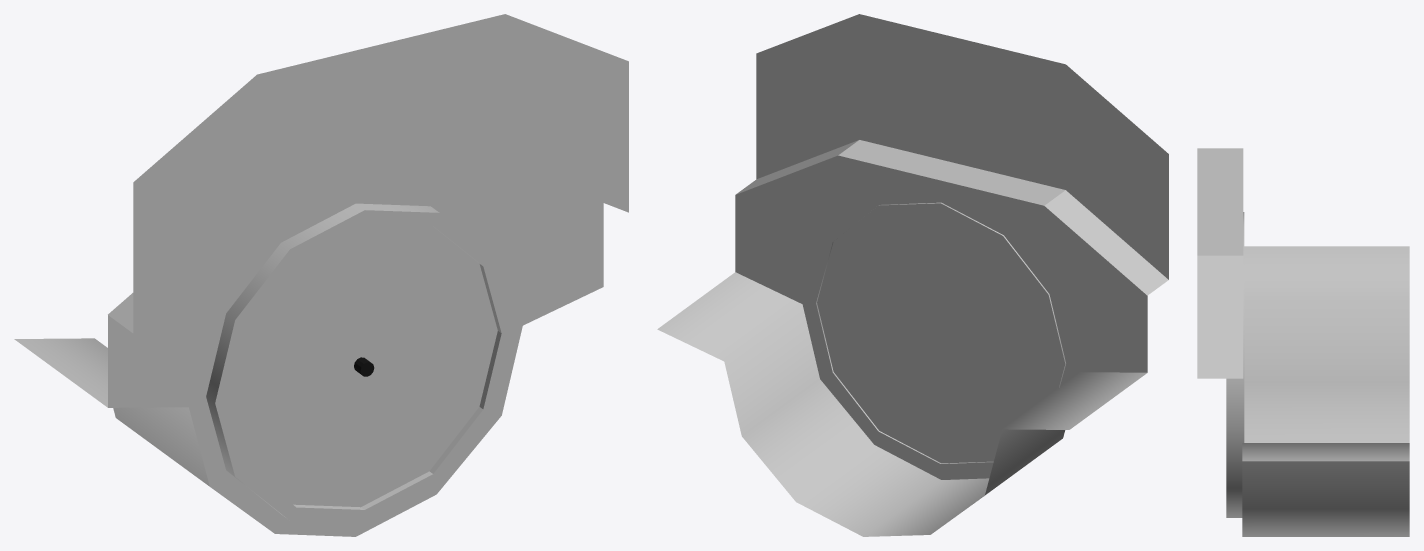
Rendered from Itr_Obj_Grandfatherclock1_Body_06.FBX.
The picture shows the model from 3 angles, left to right: view 1: azimuth 30°, elevation 25°; view 2: azimuth 150°, elevation 25°; view 3: azimuth 270°, elevation 25°; orthographic projection. The views are drawn at different scales.
Parts seen in each view (by area): view 1: Itr_Obj_Grandfatherclock1_Body_06; view 2: Itr_Obj_Grandfatherclock1_Body_06; view 3: Itr_Obj_Grandfatherclock1_Body_06.
Part boxes in pixels (x1=…): Itr_Obj_Grandfatherclock1_Body_06: x1=14, y1=14, x2=628, y2=536; Itr_Obj_Grandfatherclock1_Body_06: x1=657, y1=14, x2=1168, y2=536; Itr_Obj_Grandfatherclock1_Body_06: x1=1197, y1=148, x2=1409, y2=536.
Size of the model in its own units: 14.49 by 14.28 by 6.05.
